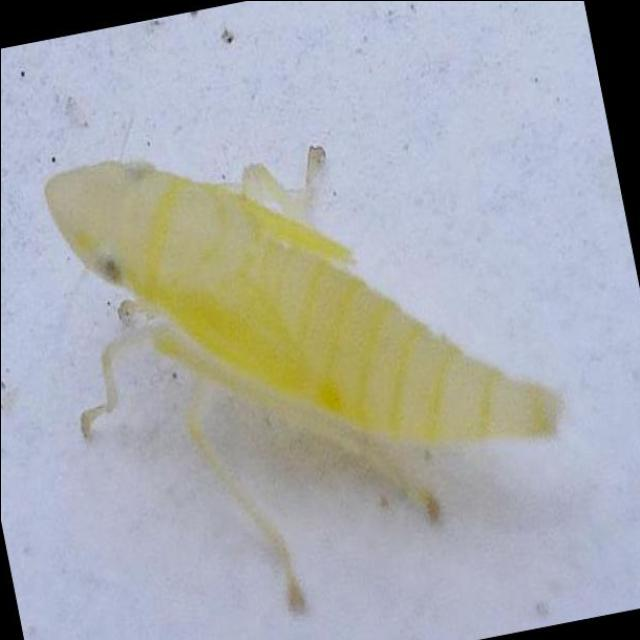green leaf hopper: (45, 145, 558, 610)
